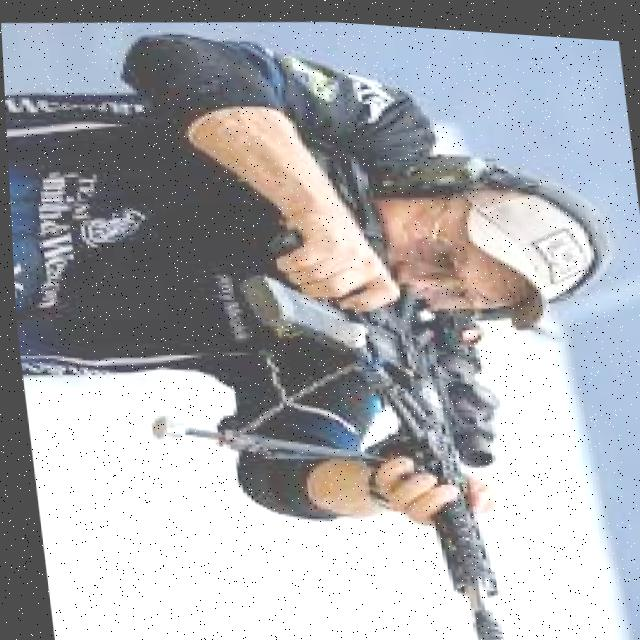firearm: (227, 143, 521, 640)
